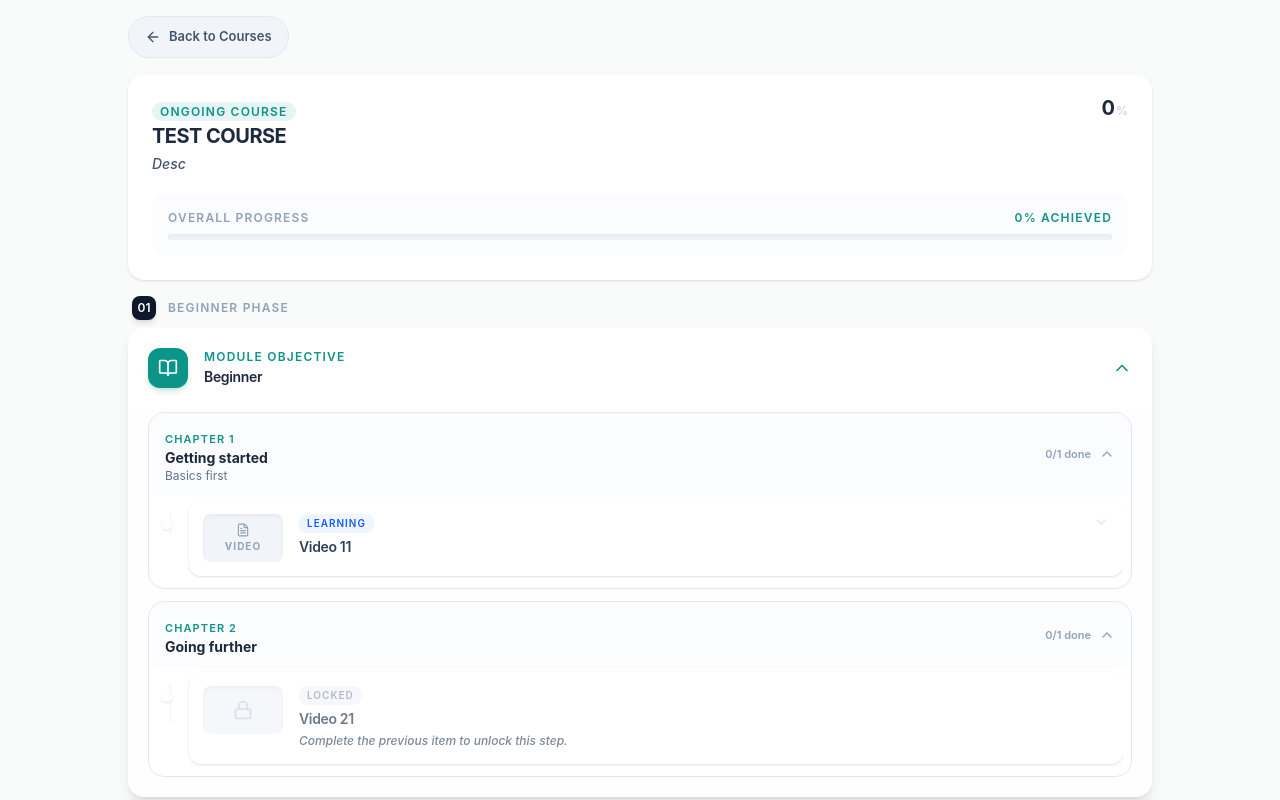
student roadmap chapters › collapses and expands a chapter
Click the button "Chapter 1 Getting started Basics first 0/1 done" at point(197, 438), box left=149, top=412, right=1131, bottom=496
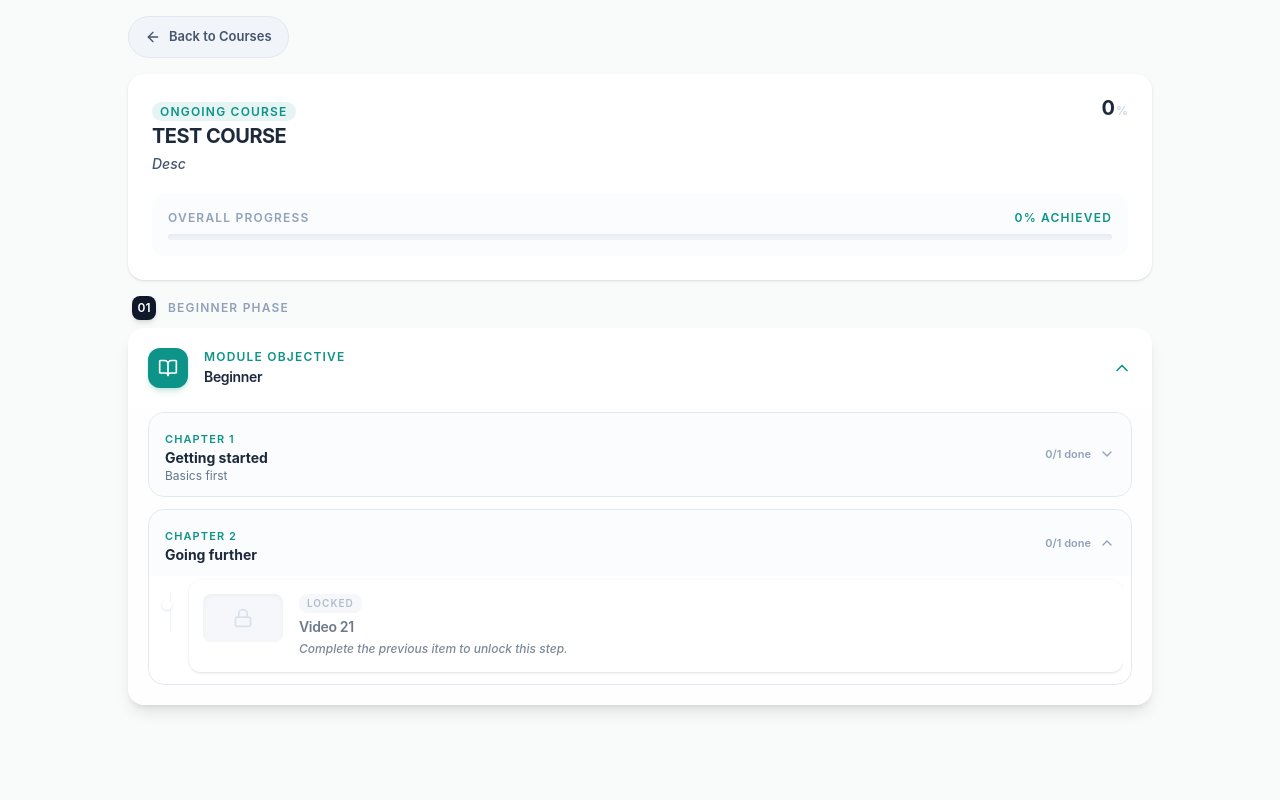
Expected: the button "Video 11" is gone
Click the button "Chapter 1 Getting started Basics first 0/1 done" at point(197, 438), box left=149, top=412, right=1131, bottom=496
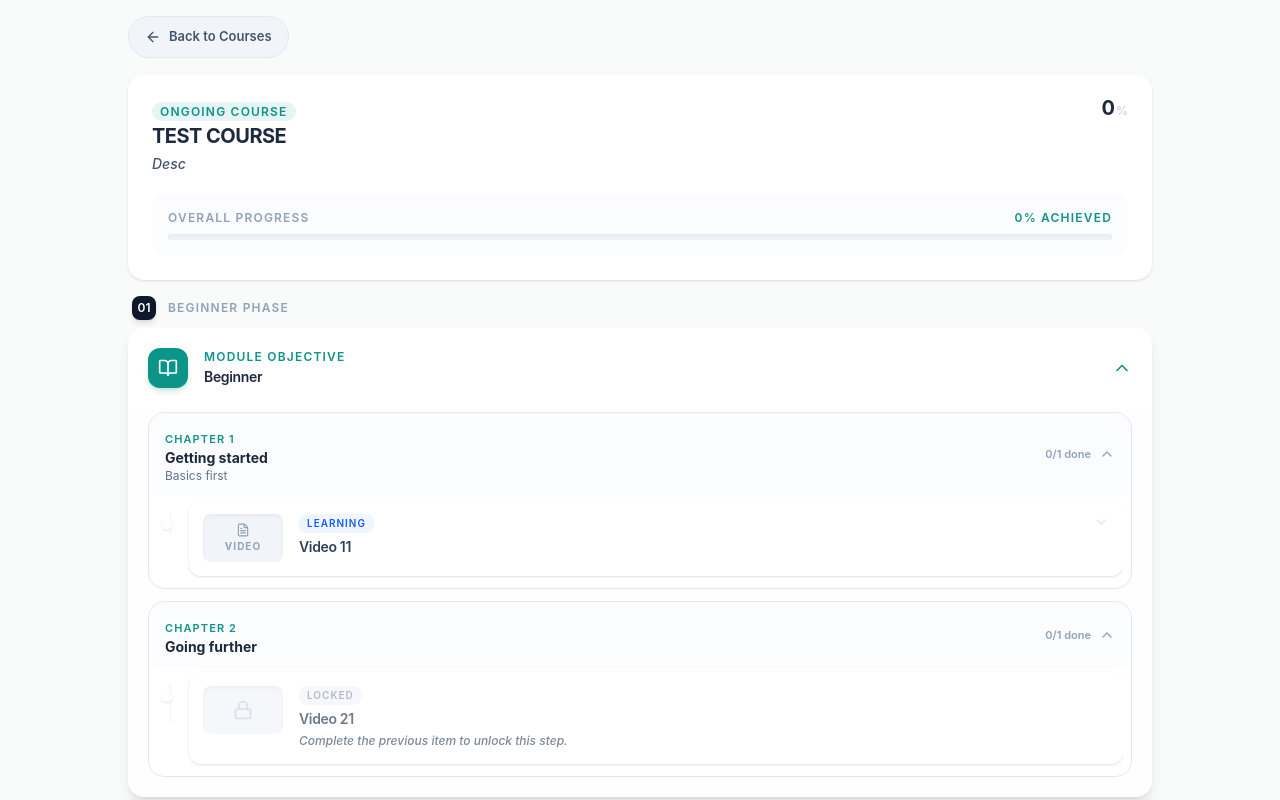
Expected: the heading "Video 11" is shown, left=299, top=538, right=351, bottom=555
